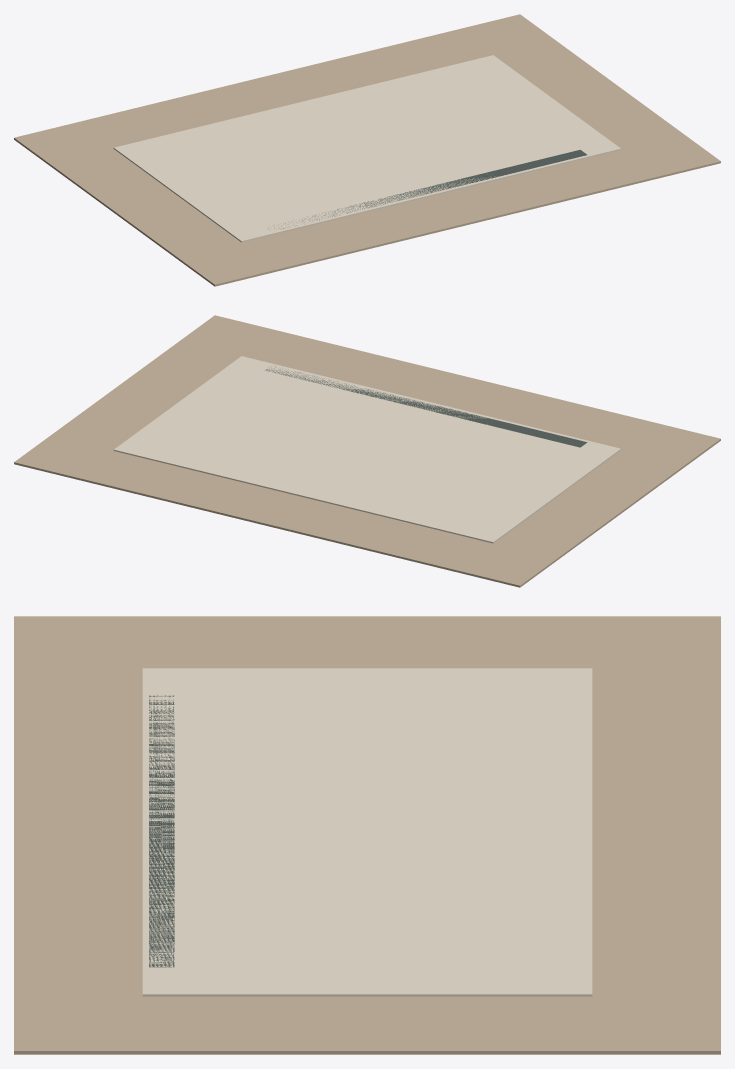
3 renders of one model, top to bottom at view 1: azimuth 30°, elevation 25°; view 2: azimuth 150°, elevation 25°; view 3: azimuth 270°, elevation 25°, orthographic. The views are drawn at different scales.
Parts seen in each view (by area): view 1: rug-base, inner, inner-edge; view 2: rug-base, inner, inner-edge; view 3: rug-base, inner, inner-edge.
Part boxes in pixels (left/top/right/bottom): rug-base: left=14, top=14, right=720, bottom=286; inner: left=113, top=55, right=621, bottom=242; inner-edge: left=267, top=149, right=586, bottom=228; rug-base: left=14, top=315, right=720, bottom=587; inner: left=113, top=356, right=621, bottom=543; inner-edge: left=265, top=366, right=587, bottom=447; rug-base: left=14, top=616, right=720, bottom=1054; inner: left=142, top=668, right=592, bottom=996; inner-edge: left=149, top=695, right=174, bottom=967.
Size of the model in its own units: 1.6 by 0.01 by 1.1.
